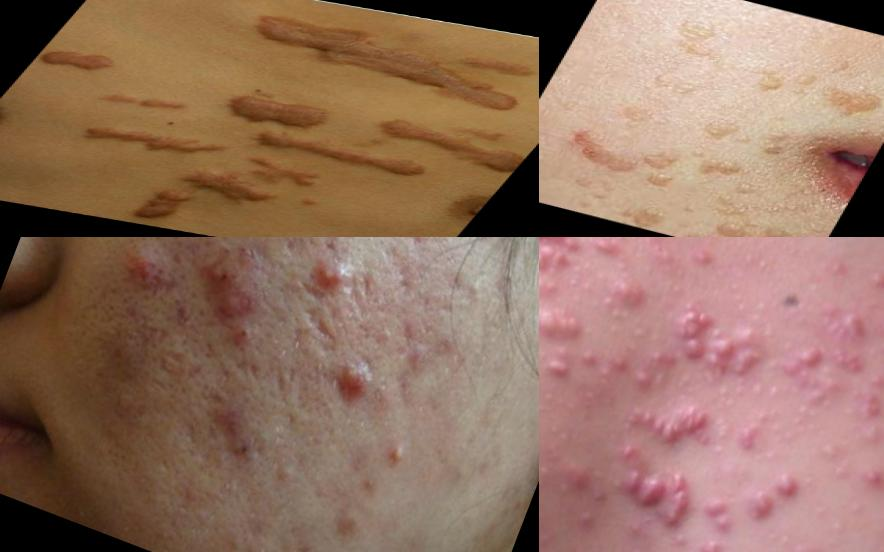flat_wart: (745, 42, 884, 130), (664, 15, 739, 64), (676, 141, 757, 186), (703, 208, 810, 238), (629, 144, 696, 191), (605, 192, 676, 232), (692, 114, 761, 152), (747, 118, 803, 161)
keloid: (207, 10, 540, 119), (234, 122, 444, 183), (347, 110, 540, 173), (63, 115, 242, 165), (617, 380, 721, 460), (154, 162, 305, 212), (205, 90, 347, 137), (221, 152, 342, 195), (605, 456, 683, 520), (86, 85, 200, 119), (664, 299, 721, 365), (540, 289, 596, 354), (122, 183, 204, 227), (30, 44, 130, 79), (540, 238, 589, 283)
papular: (319, 340, 389, 416), (112, 243, 181, 298), (195, 246, 252, 293), (208, 284, 261, 332), (326, 502, 374, 549), (744, 486, 785, 529), (768, 465, 809, 504)
purulent: (302, 250, 356, 303), (373, 432, 423, 479)
sebo-crystan-conglo: (777, 327, 868, 403), (829, 258, 884, 372), (698, 313, 775, 391), (620, 335, 685, 402), (649, 465, 705, 542), (599, 269, 660, 327), (843, 388, 884, 457), (696, 491, 745, 537), (688, 531, 729, 552)
whitehead: (750, 373, 794, 421)
